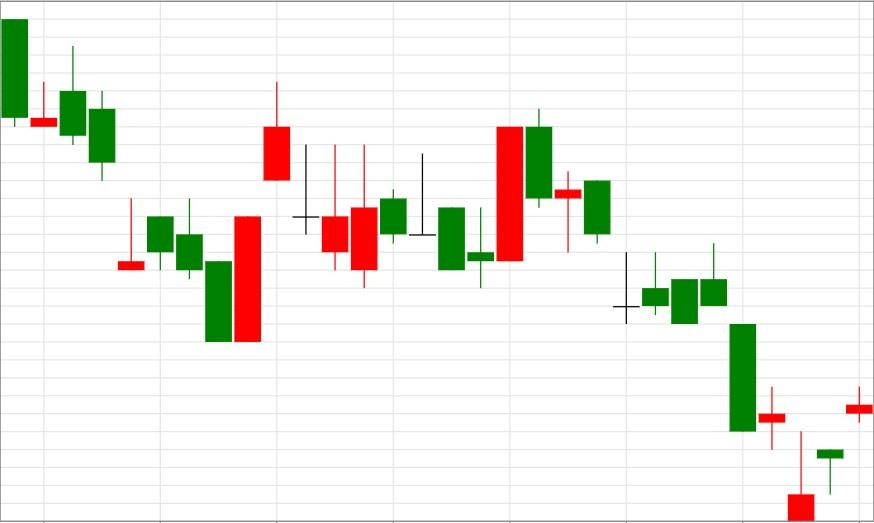bullish_engulfing_rise: (146, 198, 262, 343)
inverse_hammer_rise: (700, 243, 816, 521)
